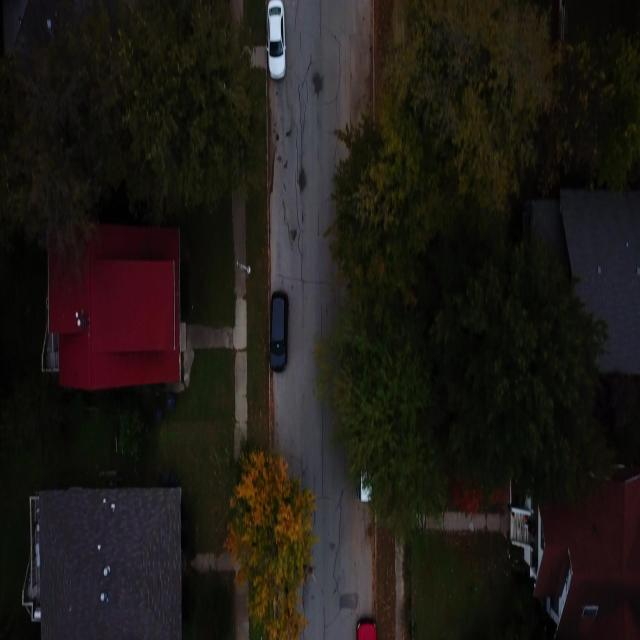Car: (265, 0, 286, 80), (356, 617, 377, 640)
Van: (269, 289, 290, 372)
